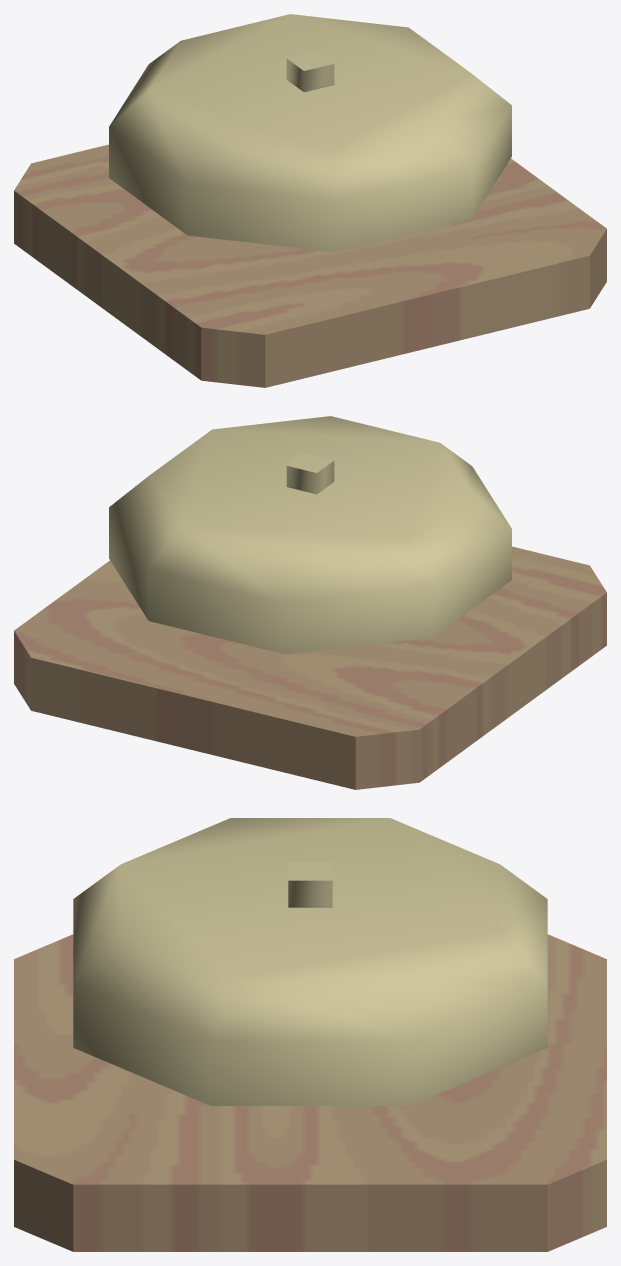
The model's file is 015c_Gong.glb.
3 views of the same model, one above another, from view 1: azimuth 30°, elevation 25°; view 2: azimuth 150°, elevation 25°; view 3: azimuth 270°, elevation 25° (orthographic). The views are drawn at different scales.
Parts seen in each view (by area): view 1: part_0; view 2: part_0; view 3: part_0.
Boxes of the visible parts, x1=… form: part_0: x1=14, y1=14, x2=606, y2=387; part_0: x1=14, y1=416, x2=606, y2=789; part_0: x1=14, y1=818, x2=606, y2=1251.
Size of the model in its own units: 0.2 by 0.095 by 0.2.
Materials: 1 (1 with a texture image).
